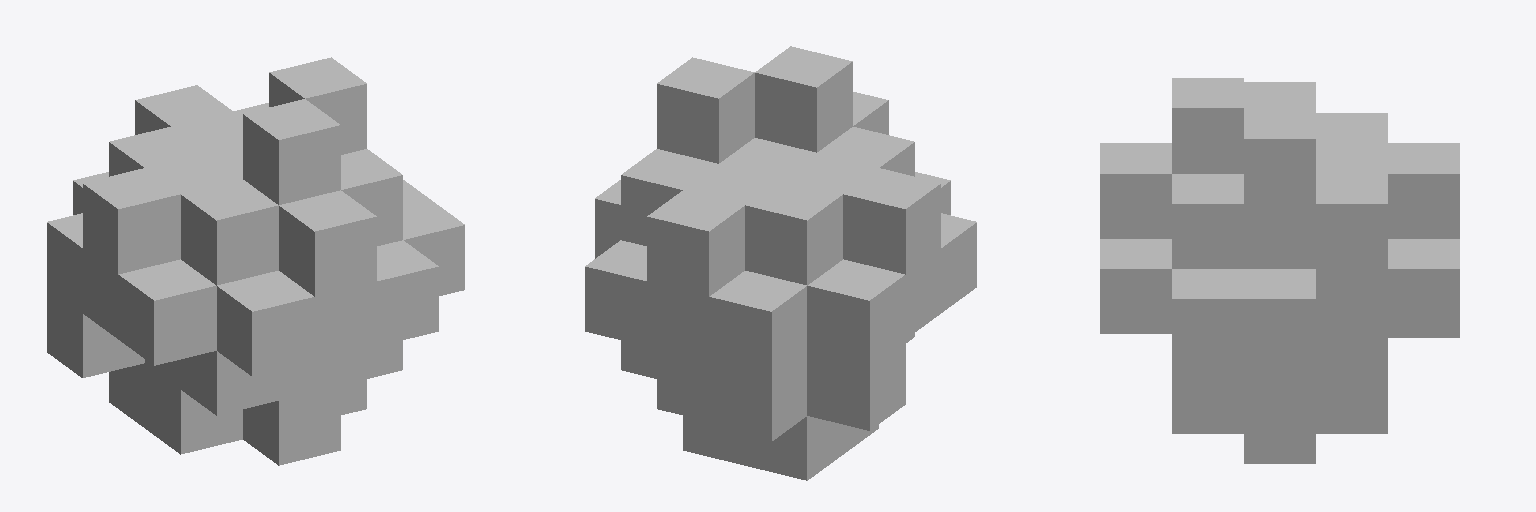
Rendered from a6empty.obj.
3 renders of one model, left to right at view 1: azimuth 30°, elevation 25°; view 2: azimuth 150°, elevation 25°; view 3: azimuth 270°, elevation 25°, orthographic.
Parts seen in each view (by area): view 1: object 1; view 2: object 1; view 3: object 1.
Part boxes in pixels (bbox=[...]): object 1: bbox=[47, 57, 464, 465]; object 1: bbox=[585, 46, 976, 480]; object 1: bbox=[1100, 78, 1459, 463].
Bounding box in the file's own units: 0.5 × 0.5 × 0.5.